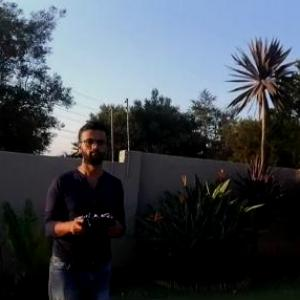follow: (37, 115, 130, 299)
